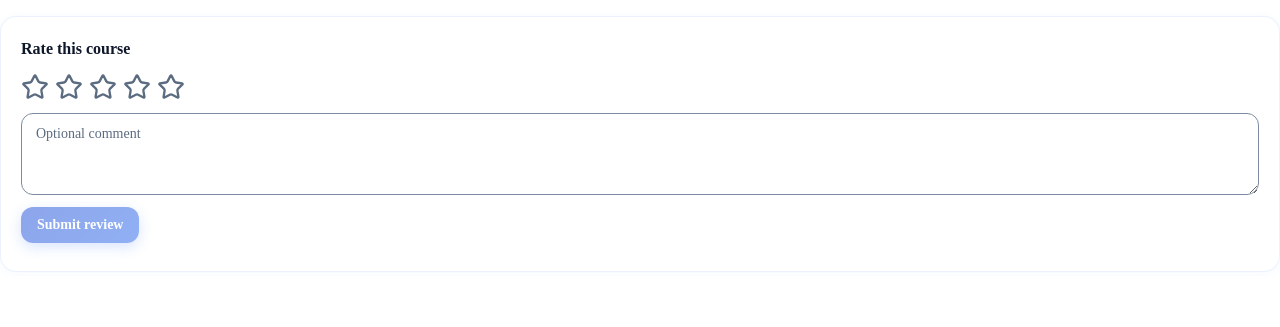
Test: ReviewBox › a failed review is an alert, styled as an error
Click the radio button named "2 stars" at (69,87), box 55,73 -> 83,101
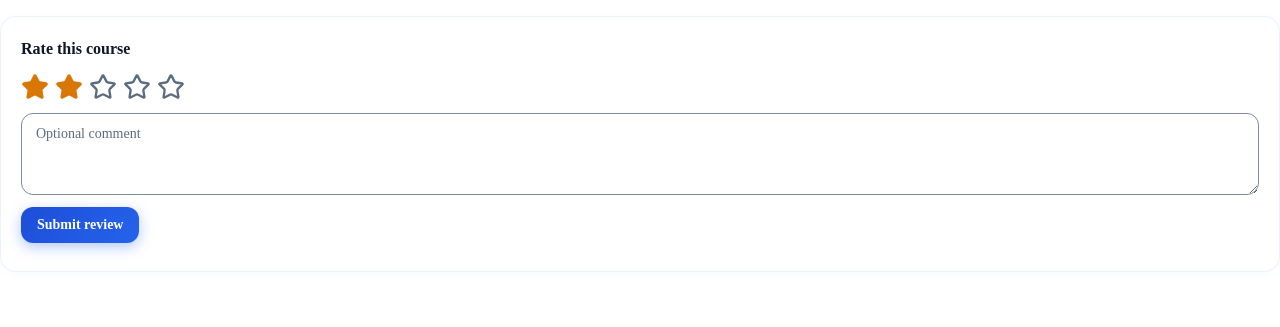
Click the button "Submit review" at (80,225), box 21,207 -> 140,243
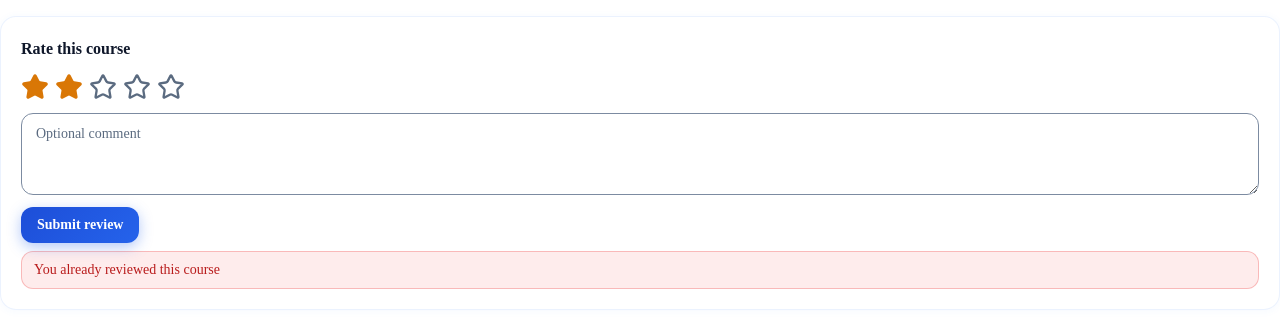
Expected: the message reads "You already reviewed this course", 34,262 -> 220,277
Expected: the text "You already reviewed this course" is shown, 21,251 -> 1259,289
